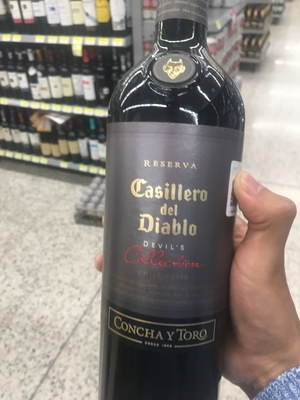casillero del diablo devils collection rojo: (101, 12, 242, 400)
